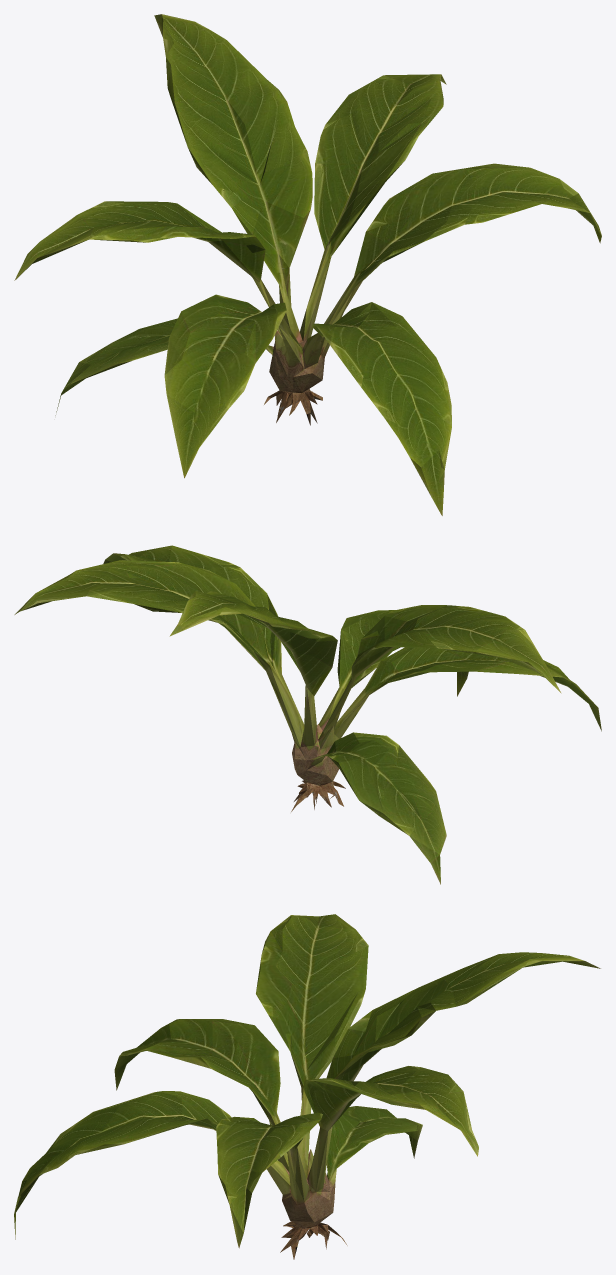
File: ea_cupfern.glb
3 views of the same model, one above another, from view 1: azimuth 30°, elevation 25°; view 2: azimuth 150°, elevation 25°; view 3: azimuth 270°, elevation 25° (orthographic). The views are drawn at different scales.
Parts seen in each view (by area): view 1: output_unwrapped; view 2: output_unwrapped; view 3: output_unwrapped.
Boxes of the visible parts, x1,y1,x2,y2 form: output_unwrapped: (14, 14, 601, 515); output_unwrapped: (14, 545, 601, 884); output_unwrapped: (14, 914, 600, 1259).
Bounding box in the file's own units: 1.9 × 1.04 × 1.81.
1 material, 1 textured.
